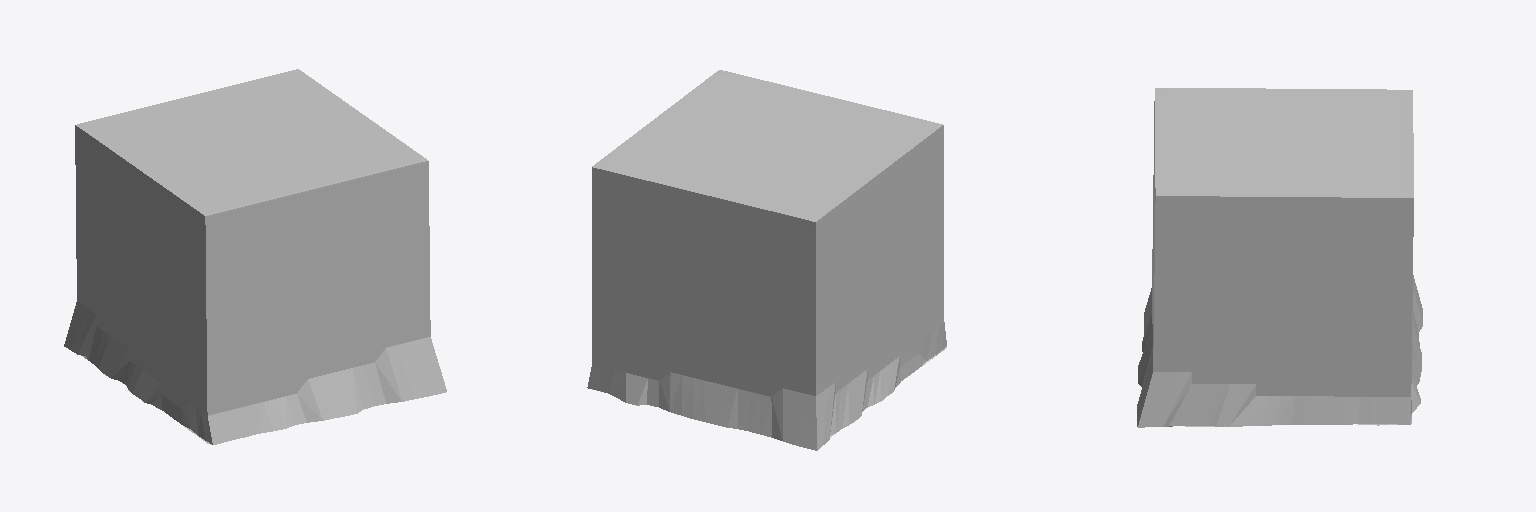
File: mod0099.obj
3 renders of one model, left to right at view 1: azimuth 30°, elevation 25°; view 2: azimuth 150°, elevation 25°; view 3: azimuth 270°, elevation 25°, orthographic.
Parts seen in each view (by area): view 1: Box001; view 2: Box001; view 3: Box001.
Boxes of the visible parts, box(x1,y1,x2,y2) form: Box001: box(64, 69, 446, 444); Box001: box(587, 70, 946, 450); Box001: box(1137, 88, 1422, 427).
Size of the model in its own units: 0.5799 by 0.5243 by 0.5979.